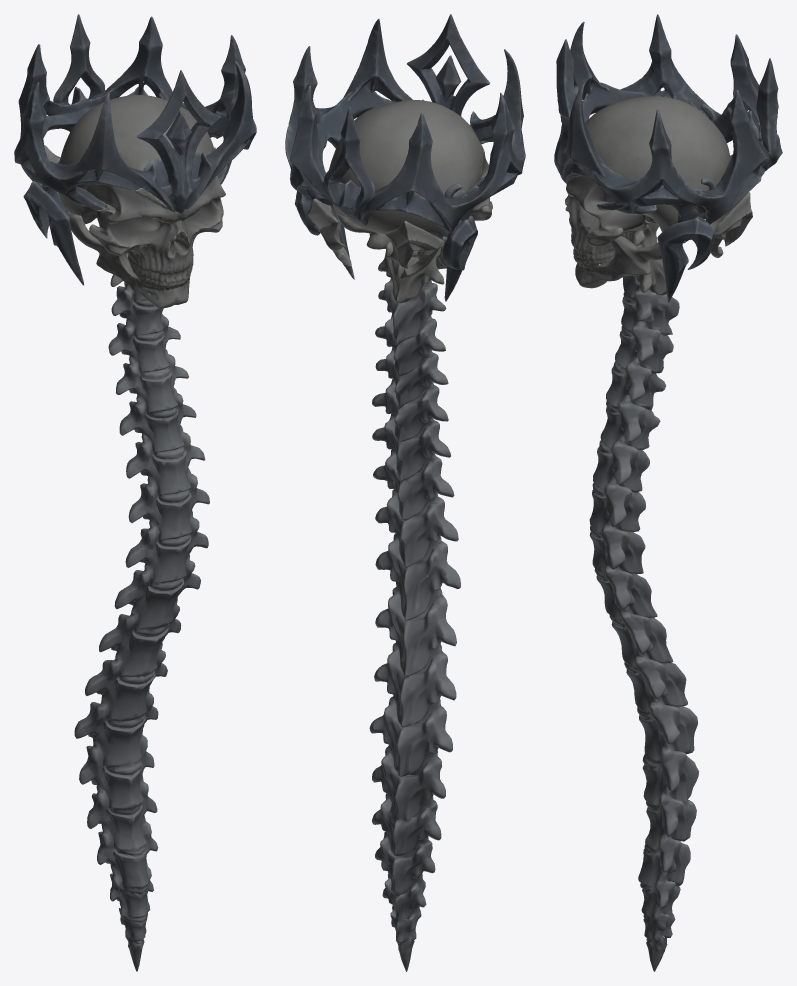
The model's file is blackcrown-skull-desktop.glb.
3 views of the same model, side by side, from view 1: azimuth 30°, elevation 25°; view 2: azimuth 150°, elevation 25°; view 3: azimuth 270°, elevation 25° (orthographic).
Visible parts, largest first — view 1: SPINE, CROWN, SKULL_FACE, SKULL_CRANIUM; view 2: SPINE, CROWN, SKULL_CRANIUM, SKULL_FACE, SKULL_REAR_LEFT, SKULL_REAR_RIGHT; view 3: SPINE, CROWN, SKULL_CRANIUM, SKULL_FACE, SKULL_REAR_RIGHT.
Boxes of the visible parts, x1=… form: SPINE: x1=74, y1=283, x2=209, y2=971; CROWN: x1=14, y1=14, x2=256, y2=285; SKULL_FACE: x1=69, y1=149, x2=225, y2=308; SKULL_CRANIUM: x1=58, y1=95, x2=213, y2=224; SPINE: x1=369, y1=278, x2=460, y2=971; CROWN: x1=285, y1=14, x2=525, y2=301; SKULL_CRANIUM: x1=329, y1=100, x2=483, y2=239; SKULL_FACE: x1=338, y1=142, x2=492, y2=303; SKULL_REAR_LEFT: x1=385, y1=220, x2=444, y2=279; SKULL_REAR_RIGHT: x1=307, y1=198, x2=351, y2=266; SPINE: x1=589, y1=275, x2=699, y2=971; CROWN: x1=554, y1=14, x2=782, y2=302; SKULL_CRANIUM: x1=585, y1=96, x2=730, y2=232; SKULL_FACE: x1=565, y1=175, x2=666, y2=295; SKULL_REAR_RIGHT: x1=710, y1=192, x2=752, y2=257.
Bounding box in the file's own units: 0.0293 × 0.12 × 0.0266.
3 materials, 3 textured.
